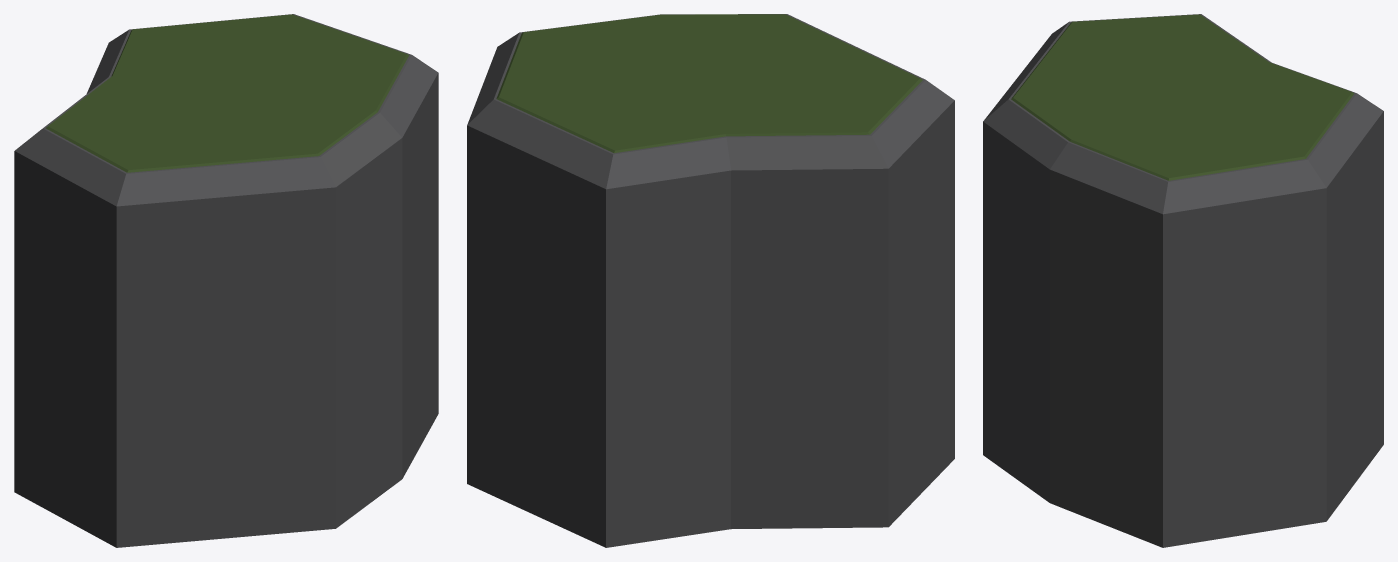
The model's file is blobfbx.fbx.
The picture shows the model from 3 angles, left to right: view 1: azimuth 30°, elevation 25°; view 2: azimuth 150°, elevation 25°; view 3: azimuth 270°, elevation 25°; orthographic projection. The views are drawn at different scales.
Parts seen in each view (by area): view 1: Cylinder.001; view 2: Cylinder.001; view 3: Cylinder.001.
Boxes of the visible parts, bbox=[...] form: Cylinder.001: bbox=[14, 14, 438, 547]; Cylinder.001: bbox=[467, 14, 954, 547]; Cylinder.001: bbox=[983, 14, 1383, 547].
Bounding box in the file's own units: 800 × 700 × 713.
Materials: 1 (1 with a texture image).
